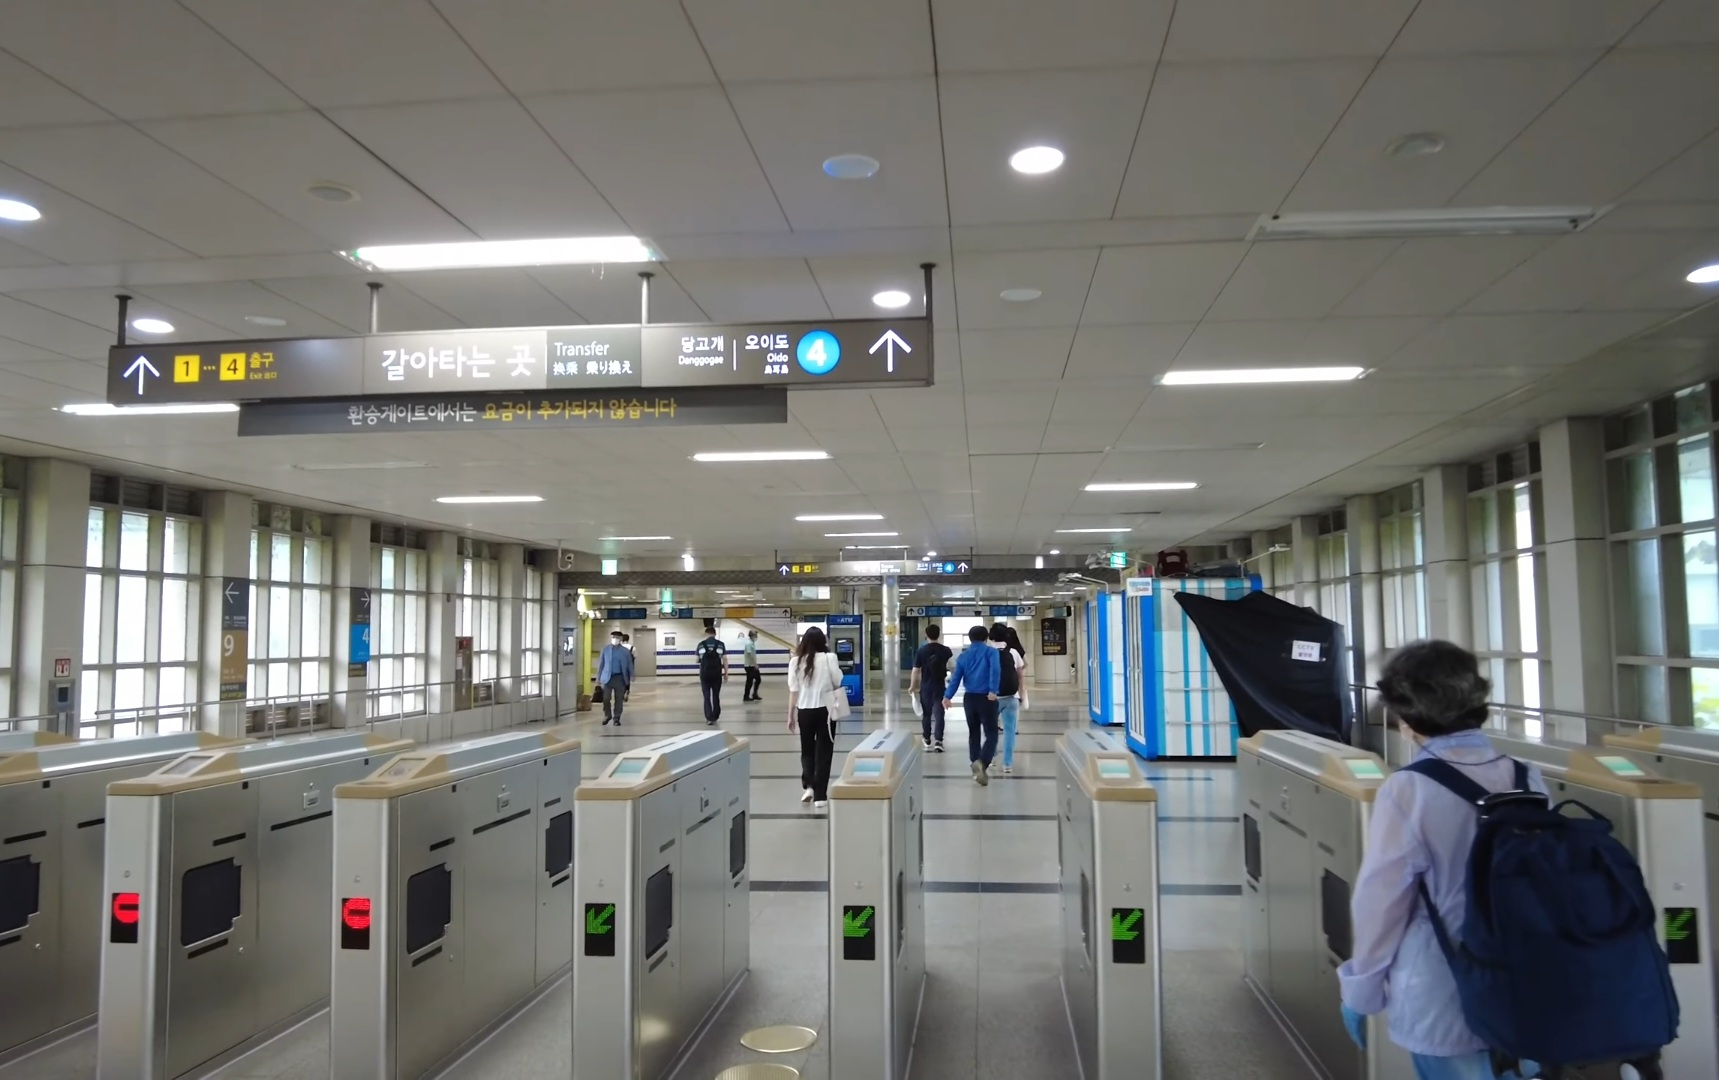signBoard: (87, 294, 989, 413)
